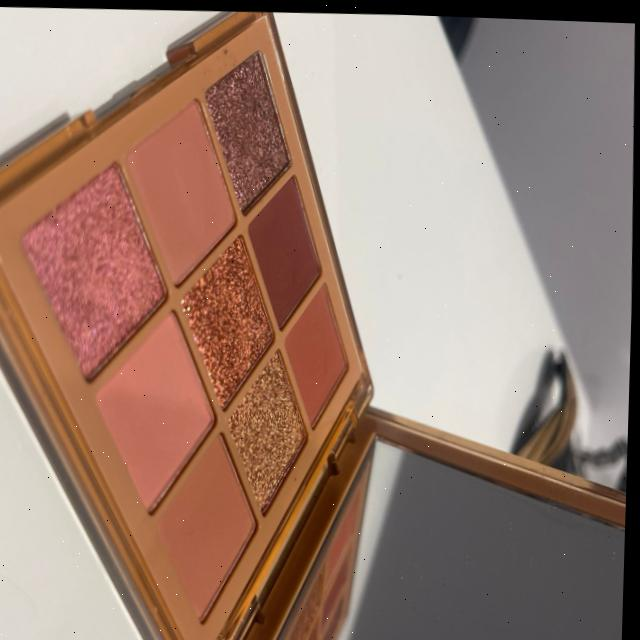eye shade: (16, 149, 181, 386), (94, 291, 228, 515), (116, 87, 248, 292), (151, 421, 273, 630), (176, 228, 291, 396), (207, 26, 303, 216), (229, 345, 319, 513), (247, 171, 334, 341), (288, 283, 369, 424)
